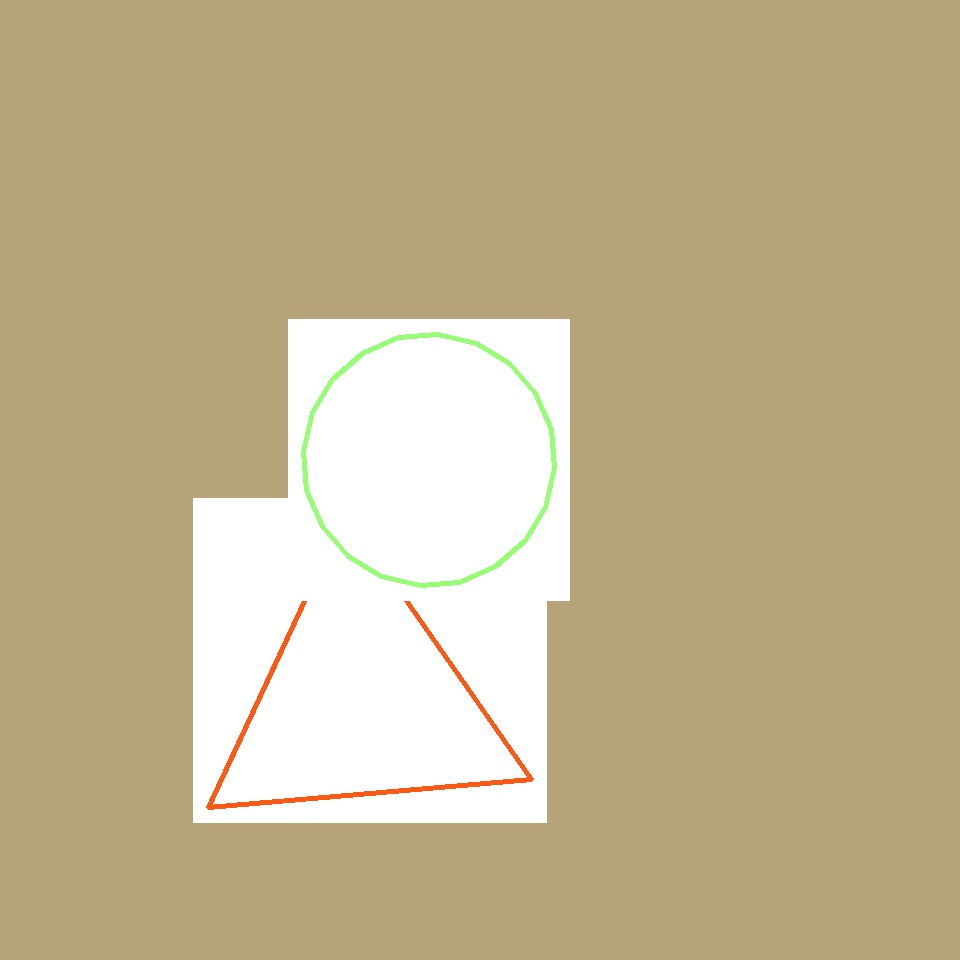circle: (200, 553, 524, 847), (255, 822, 338, 894)
square: (714, 9, 902, 196), (496, 164, 648, 317), (148, 268, 296, 418), (390, 606, 510, 726)
triangle: (526, 438, 858, 770), (304, 334, 554, 586)
